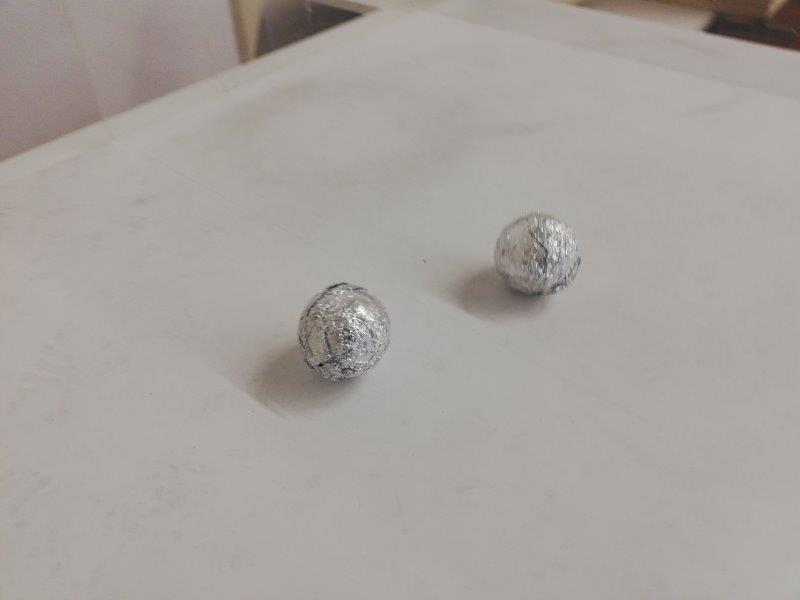bianca: (298, 284, 390, 381), (496, 211, 581, 297)
